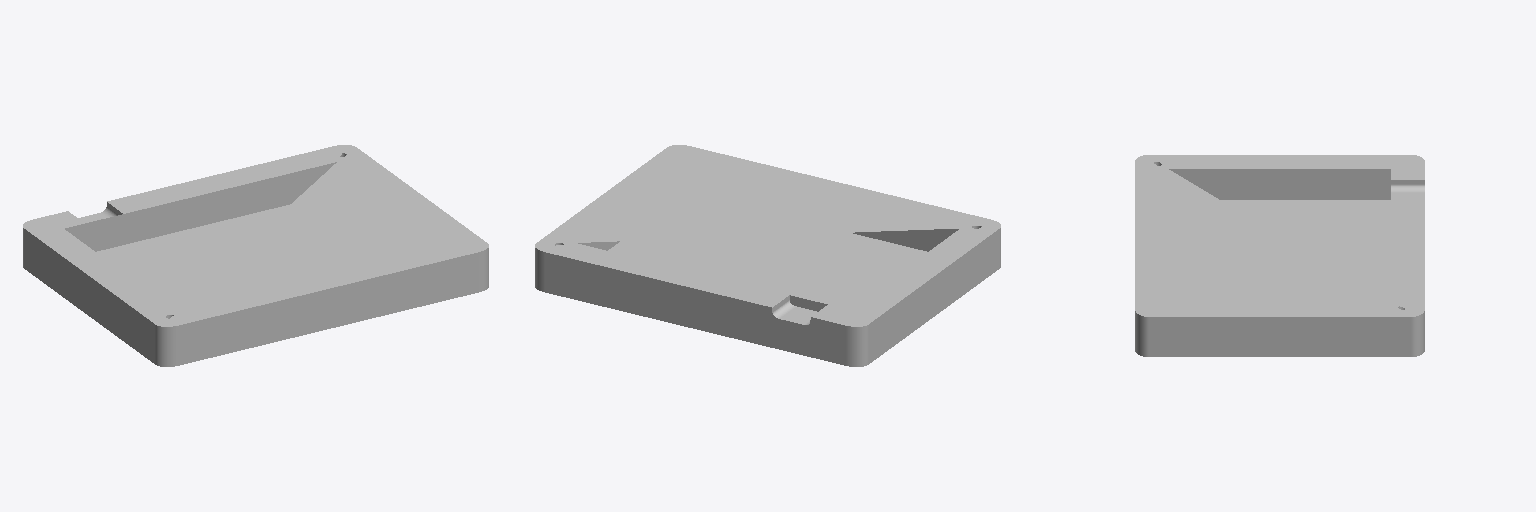
File: bottomCase.obj
The picture shows the model from 3 angles: view 1: azimuth 30°, elevation 25°; view 2: azimuth 150°, elevation 25°; view 3: azimuth 270°, elevation 25°; orthographic projection.
Parts seen in each view (by area): view 1: CaseWallBottom; view 2: CaseWallBottom; view 3: CaseWallBottom.
Part boxes in pixels (x1,y1,x2,y2): CaseWallBottom: (23, 145, 488, 366); CaseWallBottom: (535, 145, 1000, 366); CaseWallBottom: (1135, 155, 1424, 356).
Size of the model in its own units: 112 by 13 by 84.8.